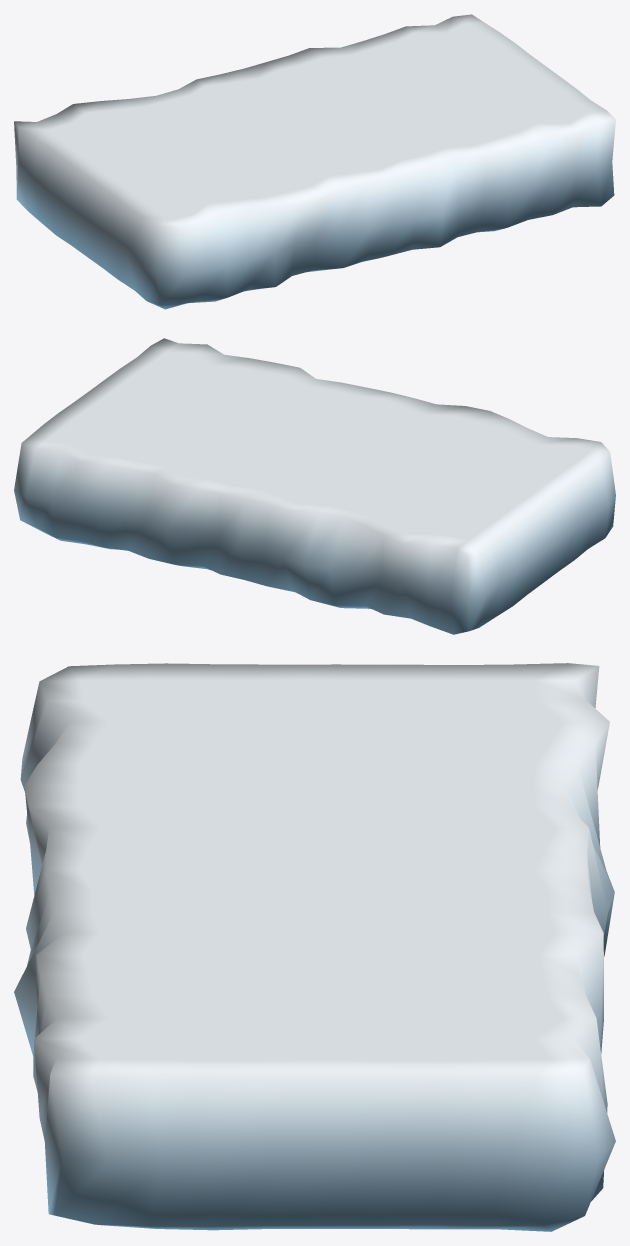
The model's file is snow.FBX.
The picture shows the model from 3 angles, top to bottom: view 1: azimuth 30°, elevation 25°; view 2: azimuth 150°, elevation 25°; view 3: azimuth 270°, elevation 25°; orthographic projection. The views are drawn at different scales.
Visible parts, largest first — view 1: Box02; view 2: Box02; view 3: Box02.
Boxes of the visible parts, box(x1,y1,x2,y2) form: Box02: box(14, 14, 615, 309); Box02: box(14, 338, 615, 634); Box02: box(14, 663, 615, 1231).
Bounding box in the file's own units: 144 × 86.25 × 27.52.
Materials: 1 (1 with a texture image).
